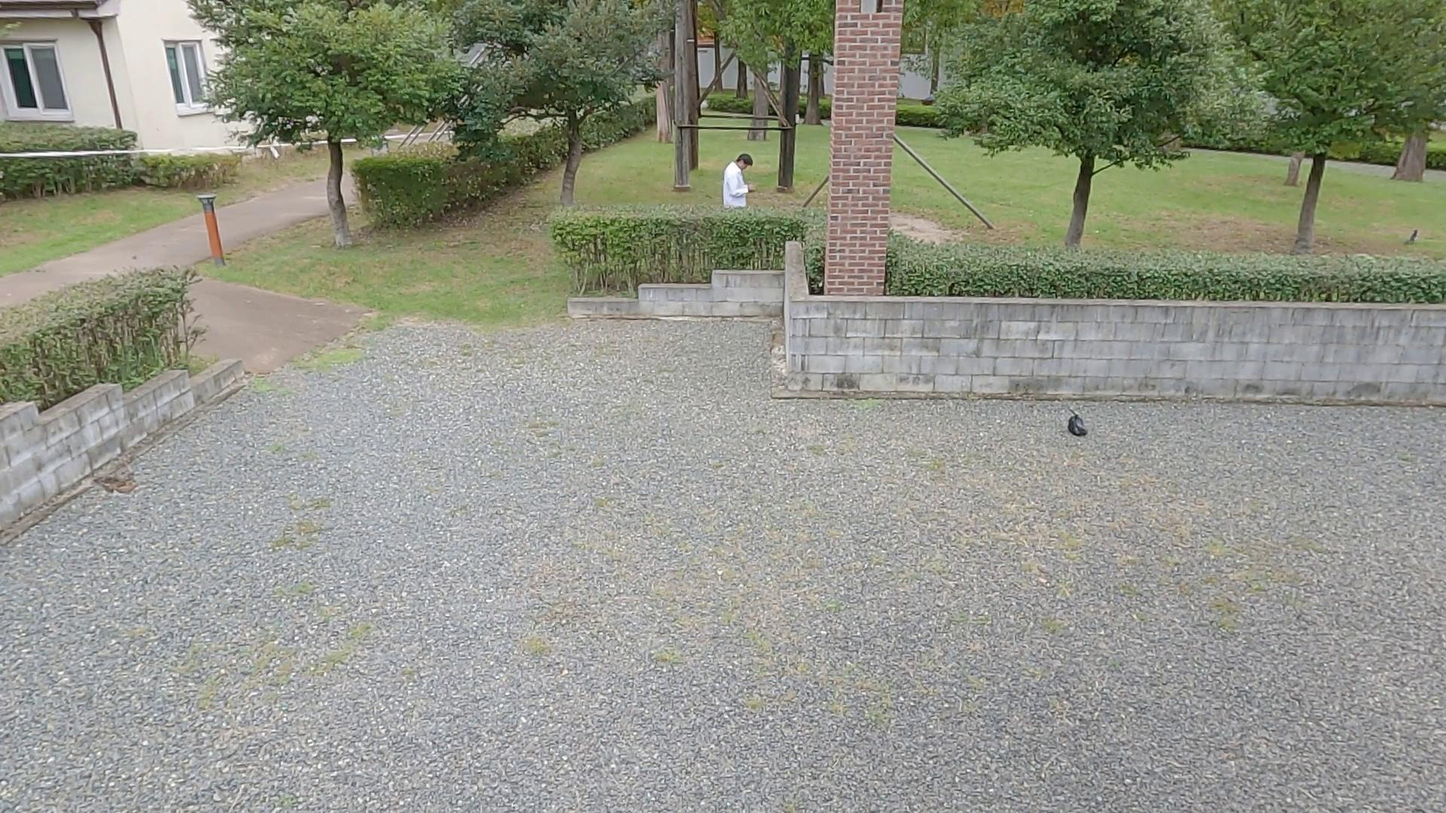person: (721, 147, 758, 228)
trash: (1063, 401, 1089, 440)
